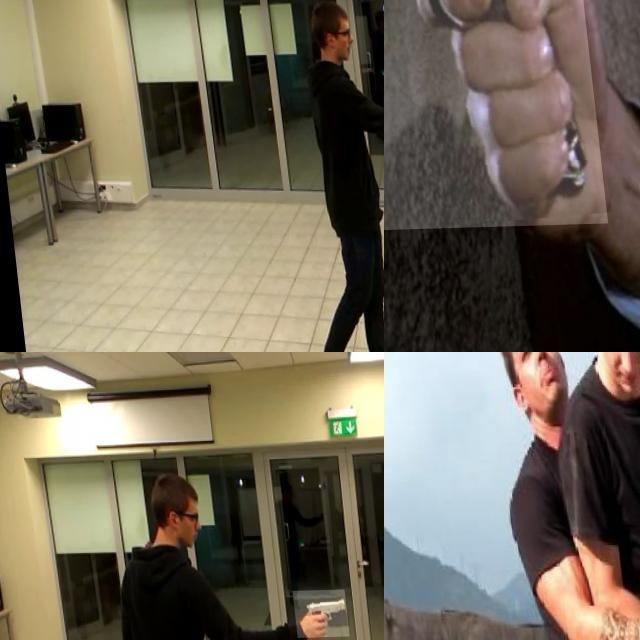gun-knife-thesis - v11 Yolov5 augmented: (384, 0, 597, 233), (284, 591, 340, 640)
